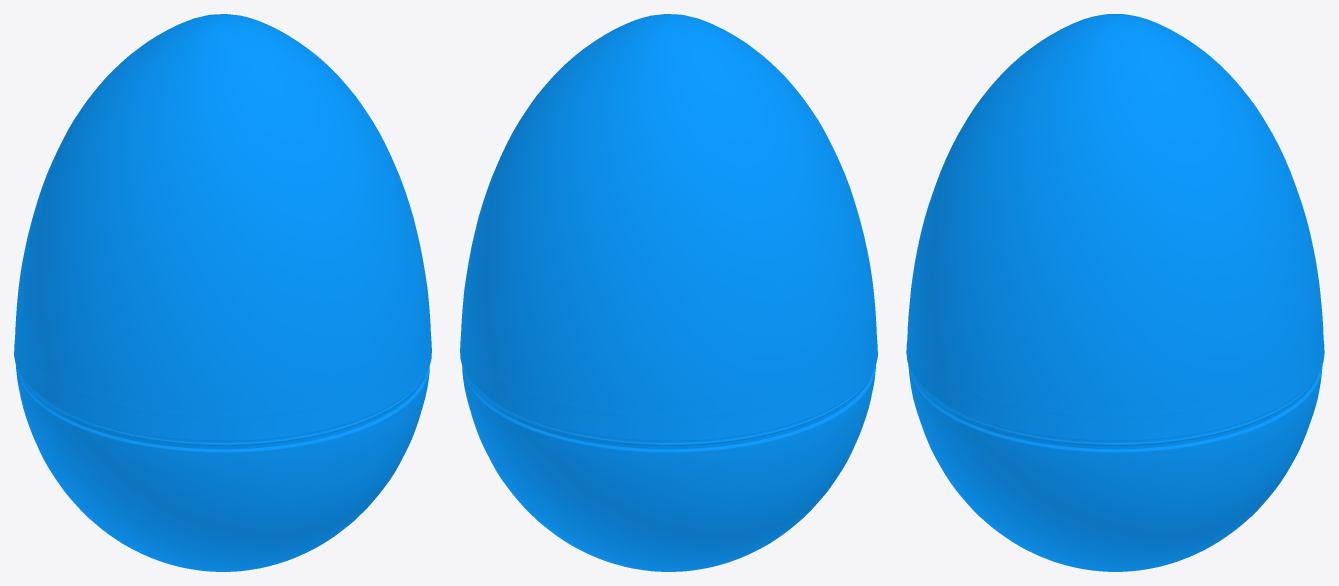
Rendered from plastic_egg.glb.
3 views of the same model, side by side, from view 1: azimuth 30°, elevation 25°; view 2: azimuth 150°, elevation 25°; view 3: azimuth 270°, elevation 25° (orthographic).
Visible parts, largest first — view 1: top_shell1, bottom_shell2; view 2: top_shell1, bottom_shell2; view 3: top_shell1, bottom_shell2.
Boxes of the visible parts, <box> form: top_shell1: <box>14,14,431,441</box>; bottom_shell2: <box>16,366,429,571</box>; top_shell1: <box>460,14,877,441</box>; bottom_shell2: <box>462,366,875,571</box>; top_shell1: <box>906,14,1324,441</box>; bottom_shell2: <box>908,365,1322,571</box>.
Size of the model in its own units: 9.76 by 13.76 by 9.76.
Materials: 1 (1 with a texture image).
